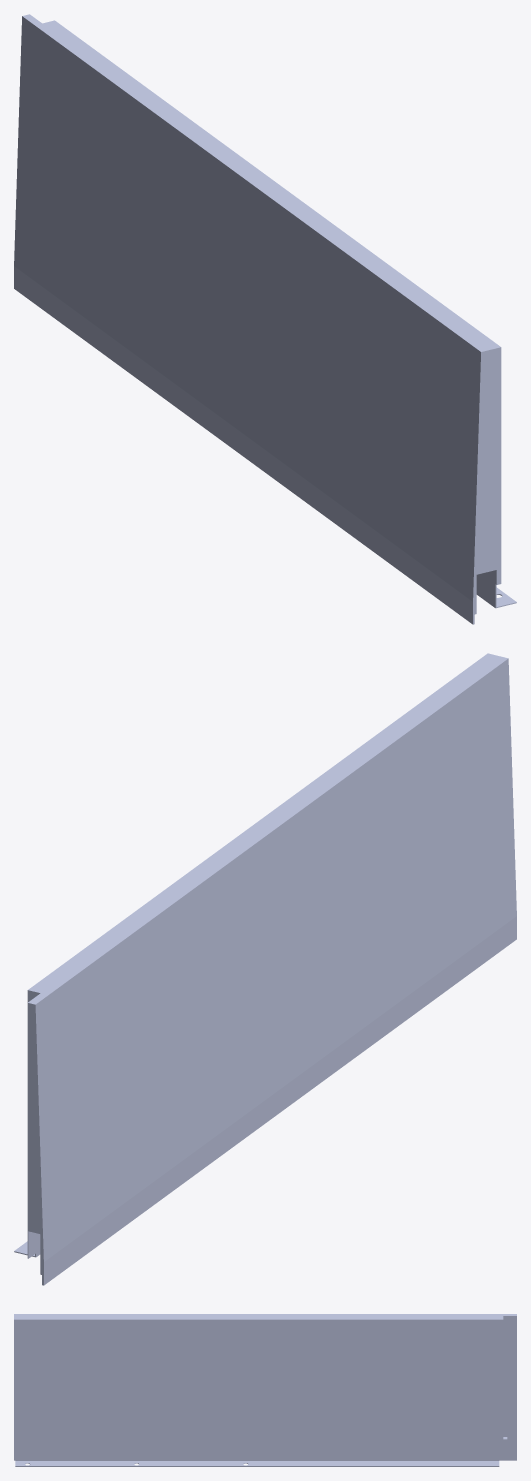
Rendered from mv-kava-E600-p.glb.
The picture shows the model from 3 angles, top to bottom: view 1: azimuth 30°, elevation 25°; view 2: azimuth 150°, elevation 25°; view 3: azimuth 270°, elevation 25°; orthographic projection. The views are drawn at different scales.
Parts seen in each view (by area): view 1: 48447283; view 2: 48447283; view 3: 48447283.
Part boxes in pixels (left/top/right/bottom): 48447283: left=14, top=14, right=516, bottom=624; 48447283: left=14, top=653, right=516, bottom=1285; 48447283: left=14, top=1314, right=516, bottom=1466.
Size of the model in its own units: 0.0335 by 0.192 by 0.5902.
